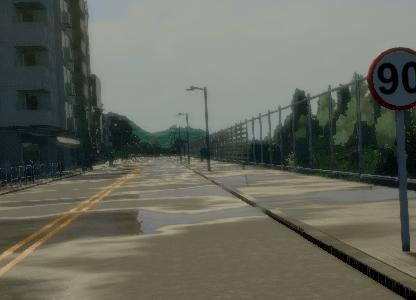Speed_90: (363, 44, 416, 113)
